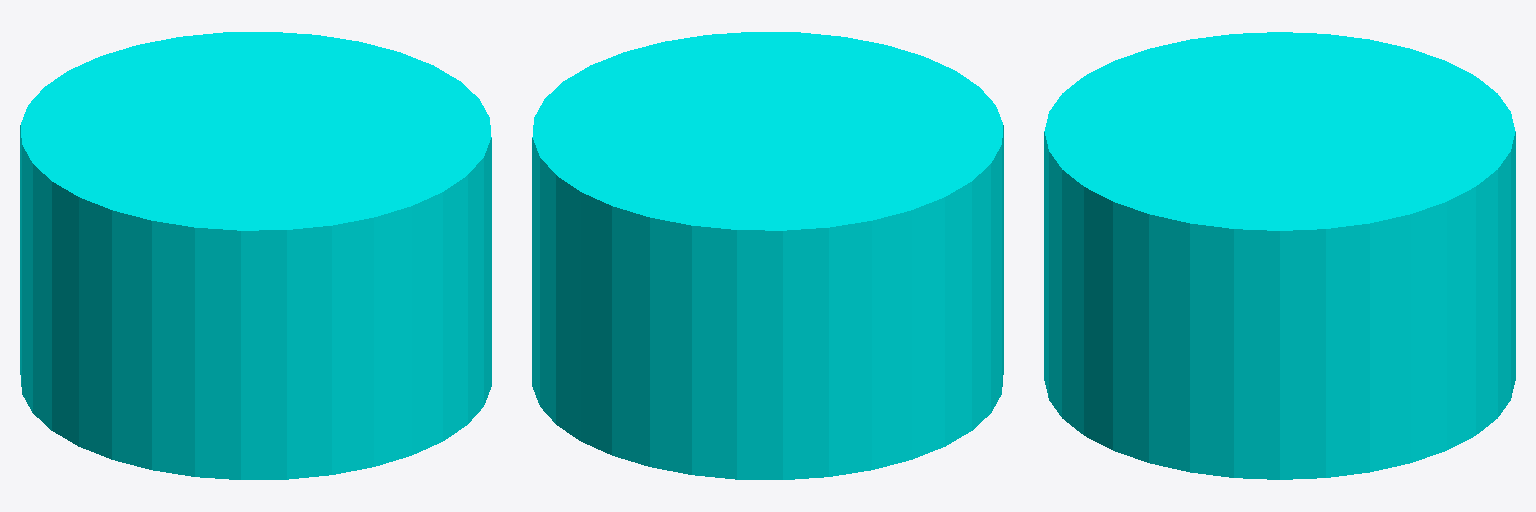
The robot description file, URDF, robot "cylinder":
<?xml version="1.0" ?>
<robot name="cylinder">
  <link name="cylinder_base_link">
    <contact>
      <restitution value="1.0"/>
      <lateral_friction value="0.5"/>
      <rolling_friction value="0.001"/>
      <contact_cfm value="0.0"/>
      <contact_erp value="1.0"/>
    </contact>
    <inertial>
      <mass value="0.2"/>
      <inertia ixx="0.0003267" ixy="0.0" ixz="0.0" iyy="0.0003267" iyz="0.0" izz="0.00009"/>
      <origin rpy="0 0 0" xyz="0 0 0"/>
    </inertial>
    <visual>
      <geometry>
        <cylinder length="0.035" radius="0.03"/>
      </geometry>
      <origin rpy="0 0 0" xyz="0 0 0"/>
       <material name="cyan">
        <color rgba="0 1 1 1"/>
      </material>
    </visual>
    <collision>
      <origin rpy="0 0 0" xyz="0 0 0"/>
      <geometry>
        <cylinder length="0.035" radius="0.03"/>
      </geometry>
    </collision>
  </link>
</robot>

--- Render facts (derived) ---
3 views of the same robot in one strip: view 1: azimuth 30°, elevation 25°; view 2: azimuth 150°, elevation 25°; view 3: azimuth 270°, elevation 25° (orthographic).
Model cylinder with 1 links and 0 joints (none), rooted at cylinder_base_link, posed every joint at zero.
Links seen in each view (by area): view 1: cylinder_base_link; view 2: cylinder_base_link; view 3: cylinder_base_link.
Link boxes in pixels (<box>): cylinder_base_link: <box>20,32,491,479</box>; cylinder_base_link: <box>532,32,1003,479</box>; cylinder_base_link: <box>1044,32,1515,479</box>.
Bounding box of the posed robot: 0.06 × 0.06 × 0.035 m (x, y, z).
Geometry: primitives only (box / cylinder / sphere), no mesh files.